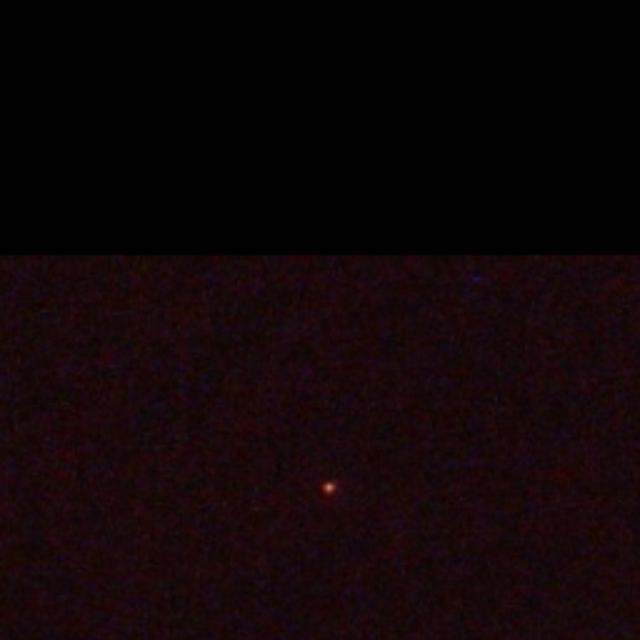microbeads: (323, 483, 337, 497)
